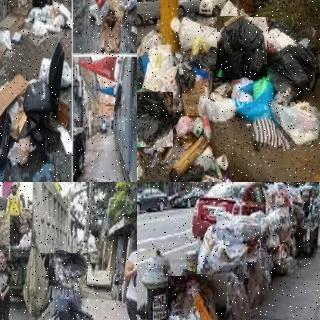Garbage: (193, 216, 259, 320), (162, 272, 234, 320), (217, 17, 268, 77), (269, 44, 320, 101), (270, 90, 320, 148), (137, 89, 176, 149), (47, 251, 89, 290), (170, 16, 216, 49), (145, 42, 174, 92), (43, 299, 106, 320), (195, 90, 236, 122), (249, 116, 282, 148), (137, 58, 143, 91)
